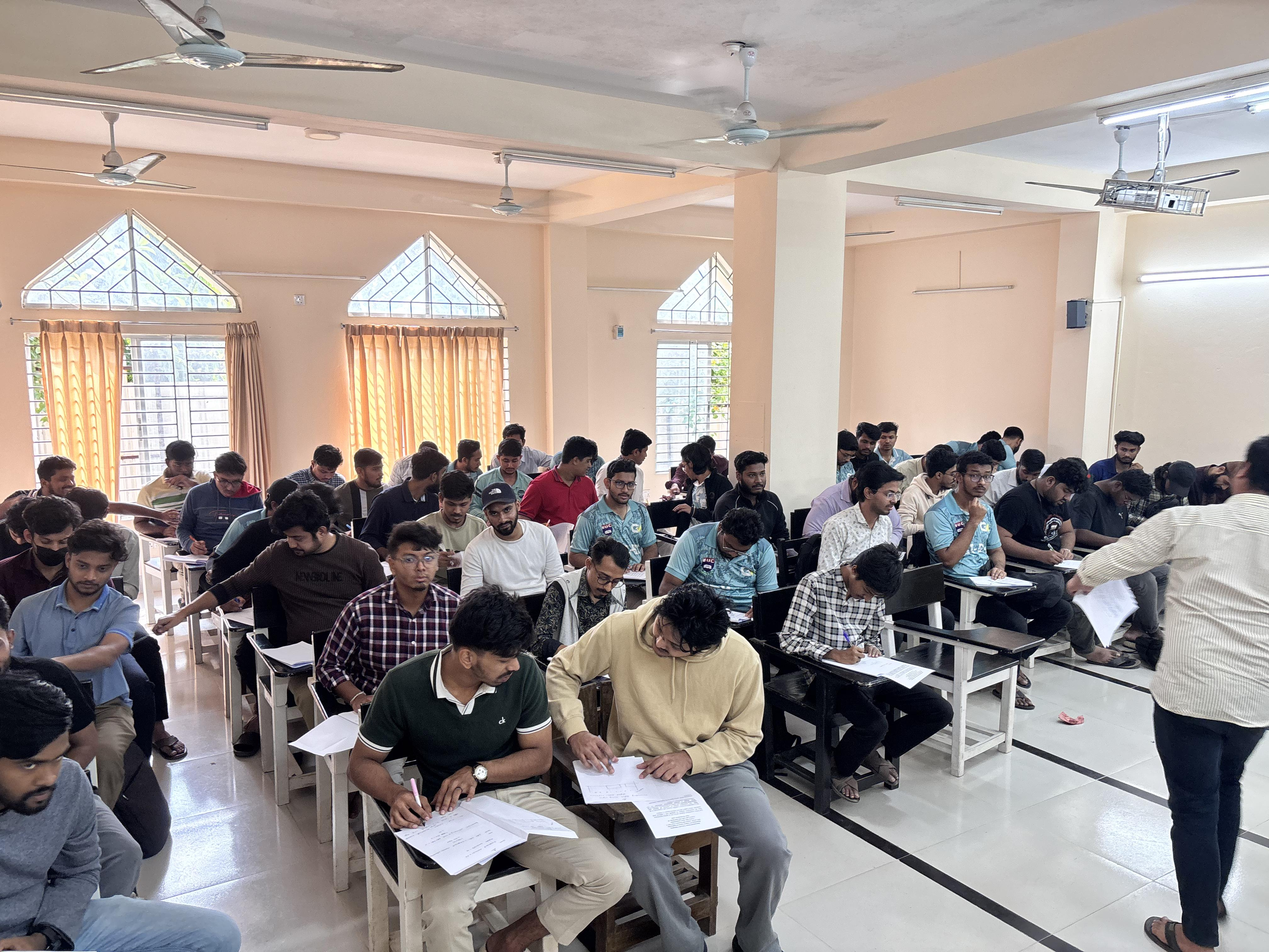copying: (398, 589, 559, 892), (663, 430, 725, 532), (853, 411, 921, 475), (450, 427, 493, 480)
exchanging_sheets: (154, 494, 349, 642), (35, 453, 187, 537)
hidden_communication: (573, 581, 770, 817)
invigilator: (1131, 430, 1269, 952)
no_cheating: (0, 666, 96, 944), (799, 540, 922, 719), (19, 523, 138, 702), (928, 450, 1018, 617), (656, 502, 782, 608), (831, 463, 921, 589), (467, 485, 543, 592), (552, 537, 642, 625), (1031, 444, 1089, 579), (190, 449, 258, 554), (14, 491, 85, 587), (585, 458, 655, 554), (412, 471, 489, 556), (1094, 419, 1153, 521), (721, 436, 788, 524), (149, 431, 205, 513), (483, 433, 533, 496), (346, 441, 389, 508), (301, 439, 351, 488)
side_talking: (530, 433, 618, 524), (375, 439, 453, 510), (601, 411, 663, 479)
